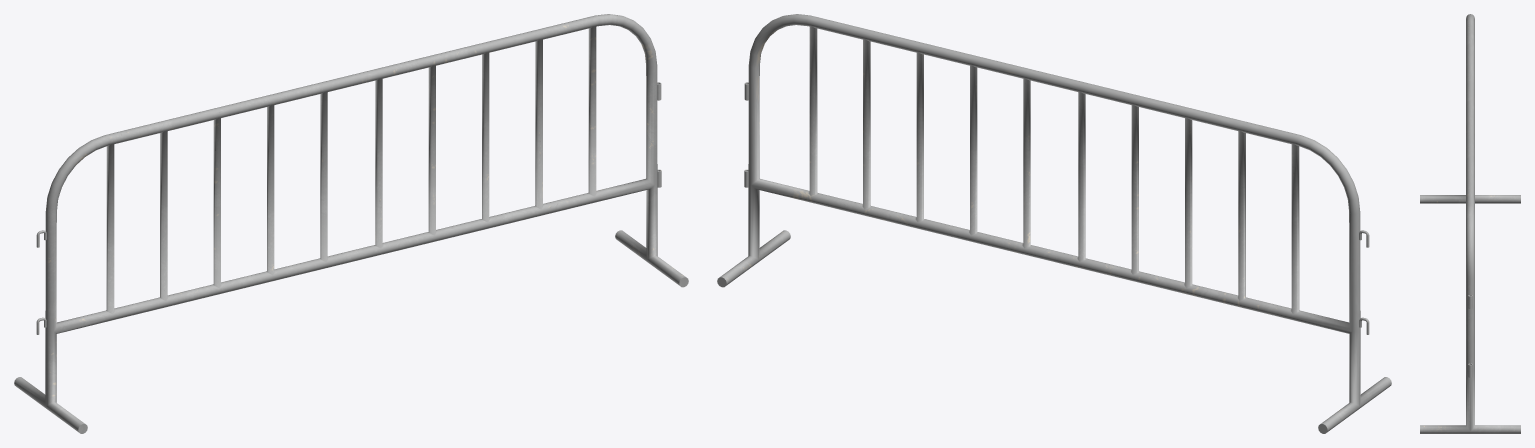
The model's file is metal_fence.fbx.
3 renders of one model, left to right at view 1: azimuth 30°, elevation 25°; view 2: azimuth 150°, elevation 25°; view 3: azimuth 270°, elevation 25°, orthographic. The views are drawn at different scales.
Visible parts, largest first — view 1: SM_Metal_Fence; view 2: SM_Metal_Fence; view 3: SM_Metal_Fence.
Part boxes in pixels (bbox=[...]): SM_Metal_Fence: bbox=[14, 14, 688, 433]; SM_Metal_Fence: bbox=[717, 14, 1391, 433]; SM_Metal_Fence: bbox=[1420, 14, 1520, 433].
Bounding box in the file's own units: 260 × 104 × 46.22.
